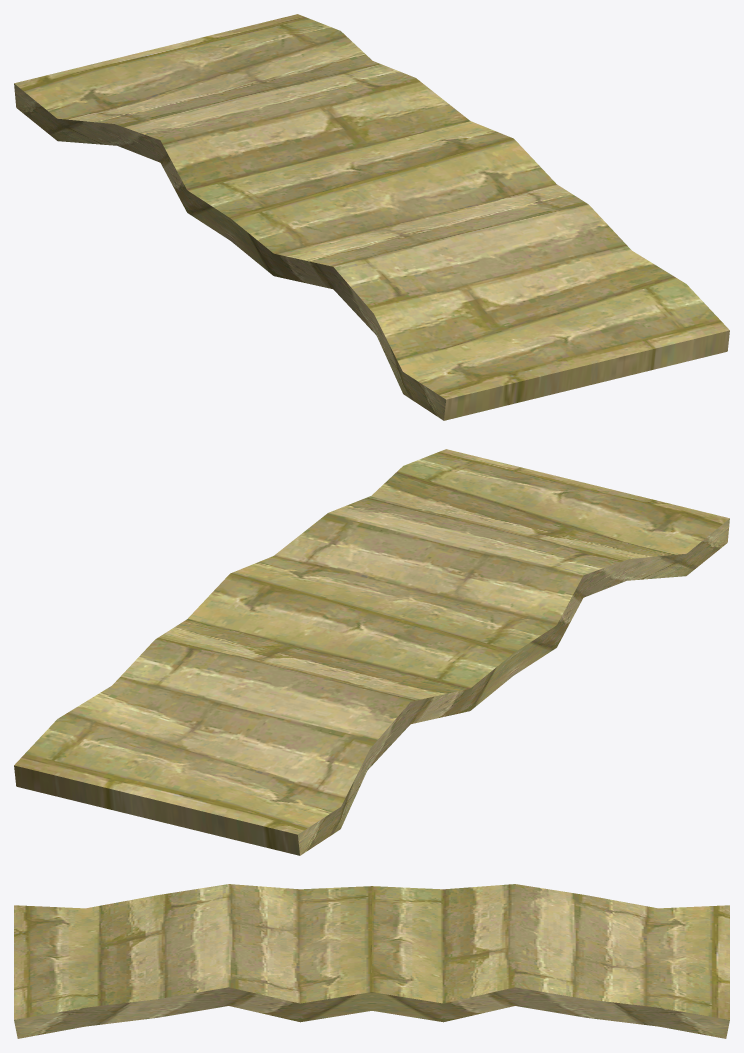
File: shamo_wujian_datajie.fbx
3 views of the same model, one above another, from view 1: azimuth 30°, elevation 25°; view 2: azimuth 150°, elevation 25°; view 3: azimuth 270°, elevation 25° (orthographic). The views are drawn at different scales.
Parts seen in each view (by area): view 1: polySurface301; view 2: polySurface301; view 3: polySurface301.
Part boxes in pixels (x1,y1,x2,y2): polySurface301: (14, 14, 729, 420); polySurface301: (14, 449, 729, 855); polySurface301: (14, 884, 729, 1038).
Bounding box in the file's own units: 1.61 × 0.3264 × 4.25.
